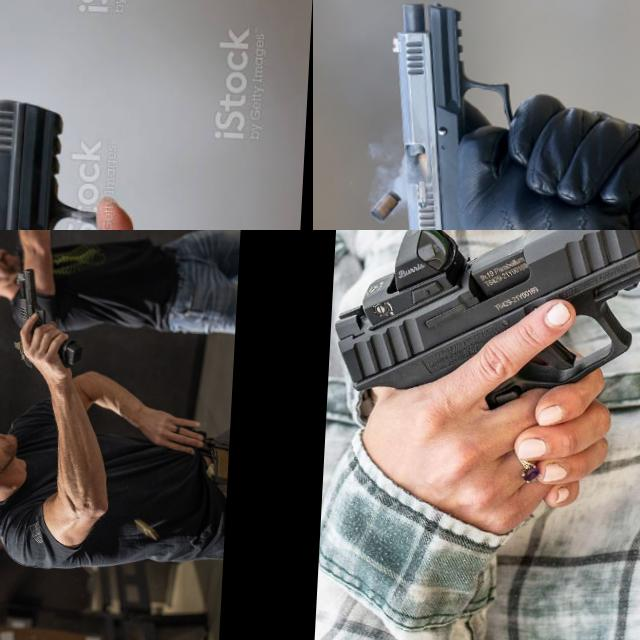handgun: (328, 230, 640, 420), (376, 0, 522, 230), (0, 92, 127, 230), (8, 264, 49, 370), (0, 230, 19, 260)
